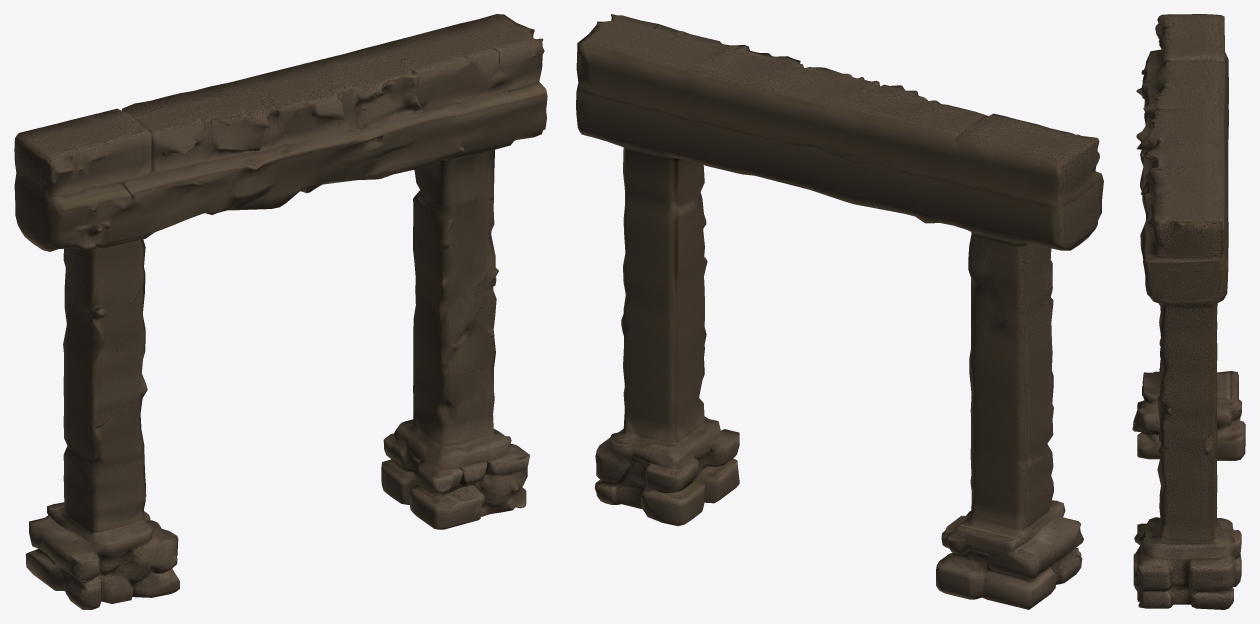
Rendered from arco_dimora.glb.
The picture shows the model from 3 angles, left to right: view 1: azimuth 30°, elevation 25°; view 2: azimuth 150°, elevation 25°; view 3: azimuth 270°, elevation 25°; orthographic projection. The views are drawn at different scales.
Visible parts, largest first — view 1: arco_dimora; view 2: arco_dimora; view 3: arco_dimora.
Part boxes in pixels (box(x1,y1,x2,y2)): arco_dimora: box(14, 14, 547, 609); arco_dimora: box(576, 14, 1103, 609); arco_dimora: box(1132, 14, 1245, 609).
Bounding box in the file's own units: 0.9995 × 0.8765 × 0.2251.
Materials: 1 (1 with a texture image).
